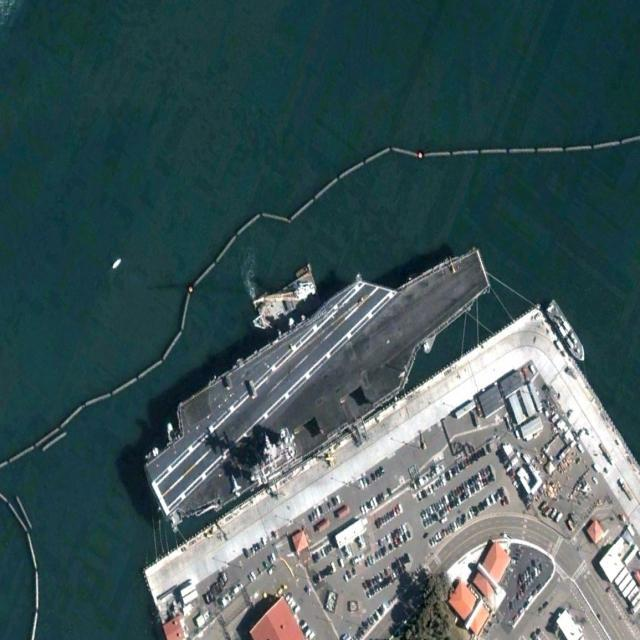Aircraft Carrier: (130, 208, 505, 546)
Other Ship: (544, 297, 588, 366)
